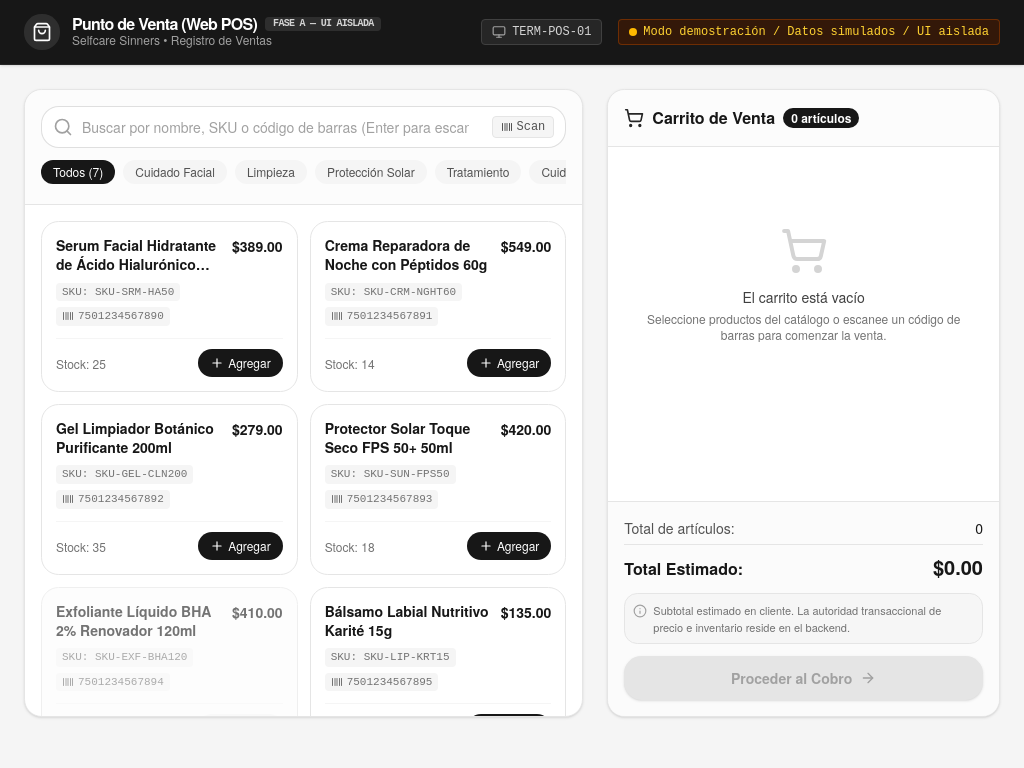
Scenario: CCP-43: Web POS Register UI (Isolated Wave - FASE A) › 1. Catalog Search & Filter › handles simulated barcode scan on Enter key
// Enter barcode and press Enter
Replace the text in the field with test id "pos-catalog-search-input" with "7501234567890" at {"x": 304, "y": 127}, box [41,106,566,148]
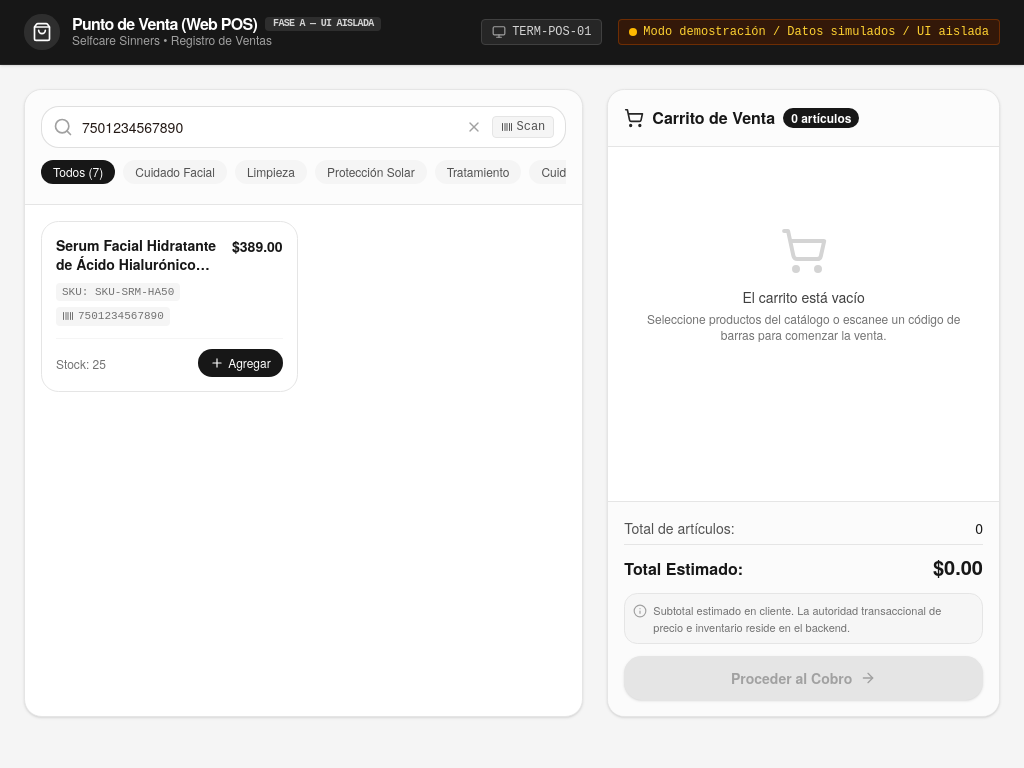
Press Enter in the field with test id "pos-catalog-search-input", box [41,106,566,148]
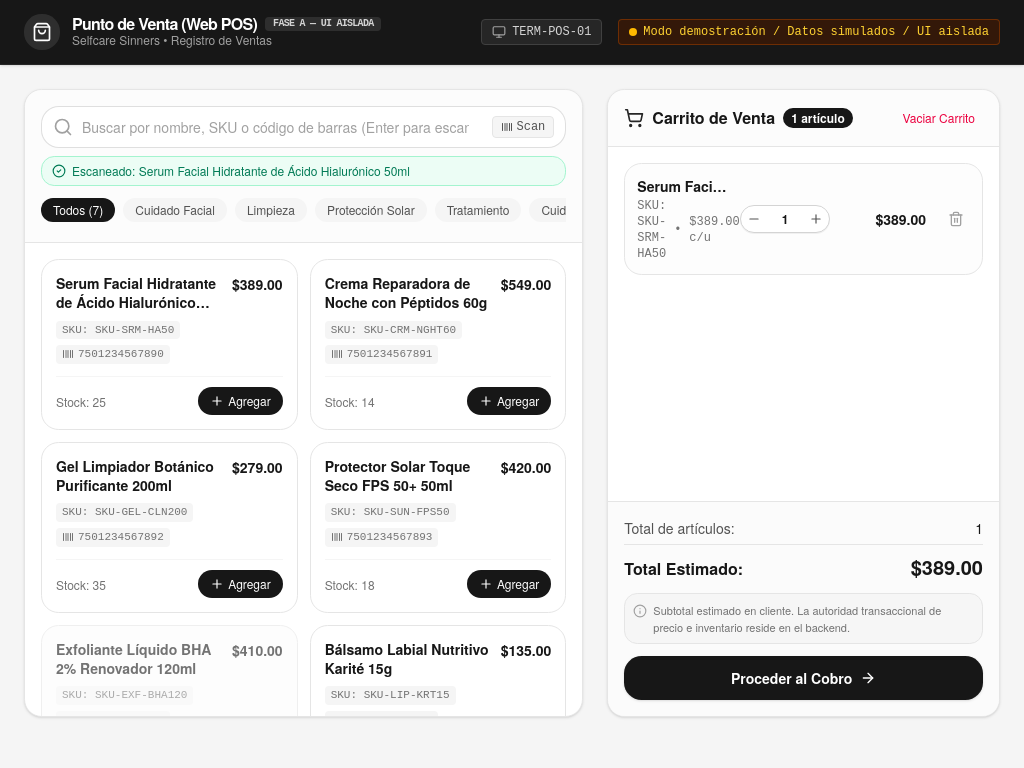
Check: the element with test id "pos-scanner-feedback" shows "Escaneado: Serum Facial", box [72,162,410,179]
Check: the text with test id "cart-summary-items-count" reads "1", box [975,518,983,538]
